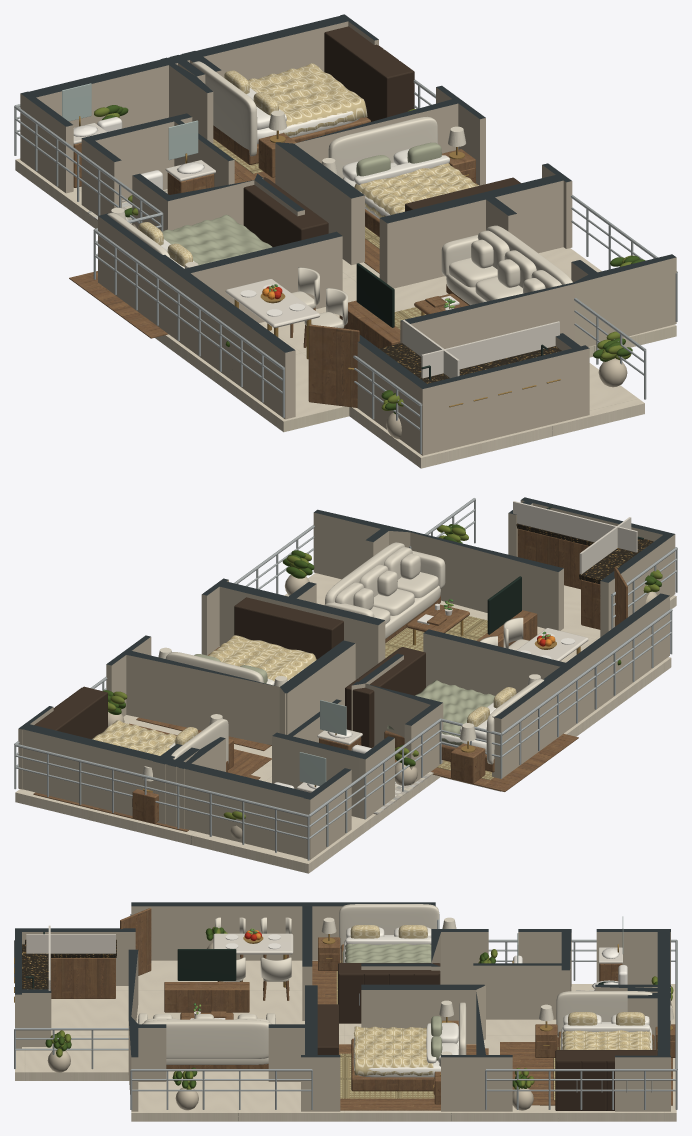
3 views of the same model, one above another, from view 1: azimuth 30°, elevation 25°; view 2: azimuth 150°, elevation 25°; view 3: azimuth 270°, elevation 25° (orthographic). The views are drawn at different scales.
Parts seen in each view (by area): view 1: Source-traced internal and perimeter walls • Wall, Continuous apartment foundation, Fitted dark wardrobe, Soft jacquard duvet with folds, Oak entrance door, Fitted dark wardrobe.002, Soft jacquard duvet with folds.001, Padded headboard.001, Backsplash.001, Soft jacquard duvet with folds.002, Padded headboard, Dining top (+20 smaller); view 2: Source-traced internal and perimeter walls • Wall, Continuous apartment foundation, Fitted dark wardrobe.001, Fitted dark wardrobe.002, Soft jacquard duvet with folds.001, Backsplash.001, Fitted dark wardrobe, Base cabinets.001, Soft jacquard duvet with folds.002, Bedroom timber finish.002, Soft jacquard duvet with folds, Living patterned carpet (+26 smaller); view 3: Source-traced internal and perimeter walls • Wall, Continuous apartment foundation, Sofa back, Soft jacquard duvet with folds.001, Base cabinets, Walnut media console, Padded headboard.002, Padded headboard, Television, Backsplash, Full bedroom wood flooring, Soft jacquard duvet with folds (+39 smaller).
Part boxes in pixels (x1,y1,x2,y2): Source-traced internal and perimeter walls • Wall: [20, 14, 676, 455]; Continuous apartment foundation: [15, 158, 676, 468]; Fitted dark wardrobe: [324, 26, 413, 121]; Soft jacquard duvet with folds: [248, 63, 367, 136]; Oak entrance door: [308, 324, 359, 407]; Fitted dark wardrobe.002: [243, 177, 327, 246]; Soft jacquard duvet with folds.001: [354, 163, 479, 217]; Padded headboard.001: [328, 116, 437, 178]; Backsplash.001: [421, 321, 559, 378]; Soft jacquard duvet with folds.002: [162, 214, 272, 265]; Padded headboard: [191, 61, 257, 156]; Dining top: [225, 279, 319, 327]; Source-traced internal and perimeter walls • Wall: [18, 497, 675, 859]; Continuous apartment foundation: [15, 573, 676, 873]; Fitted dark wardrobe.001: [234, 597, 343, 659]; Fitted dark wardrobe.002: [345, 647, 425, 747]; Soft jacquard duvet with folds.001: [209, 635, 316, 681]; Backsplash.001: [513, 501, 637, 552]; Fitted dark wardrobe: [34, 686, 107, 739]; Base cabinets.001: [517, 528, 589, 589]; Soft jacquard duvet with folds.002: [387, 680, 494, 745]; Bedroom timber finish.002: [372, 733, 578, 791]; Soft jacquard duvet with folds: [92, 720, 176, 753]; Living patterned carpet: [385, 616, 487, 657]; Source-traced internal and perimeter walls • Wall: [15, 902, 670, 1111]; Continuous apartment foundation: [15, 960, 676, 1121]; Sofa back: [142, 1019, 271, 1058]; Soft jacquard duvet with folds.001: [353, 1026, 433, 1076]; Base cabinets: [51, 958, 115, 998]; Walnut media console: [164, 982, 249, 1012]; Padded headboard.002: [339, 904, 439, 949]; Padded headboard: [556, 991, 652, 1036]; Television: [177, 949, 236, 980]; Backsplash: [26, 934, 115, 953]; Full bedroom wood flooring: [500, 1042, 558, 1105]; Soft jacquard duvet with folds: [560, 1030, 653, 1049].
Size of the model in its own units: 7.31 by 1.7 by 12.46.
Materials: 26 (6 with a texture image).
